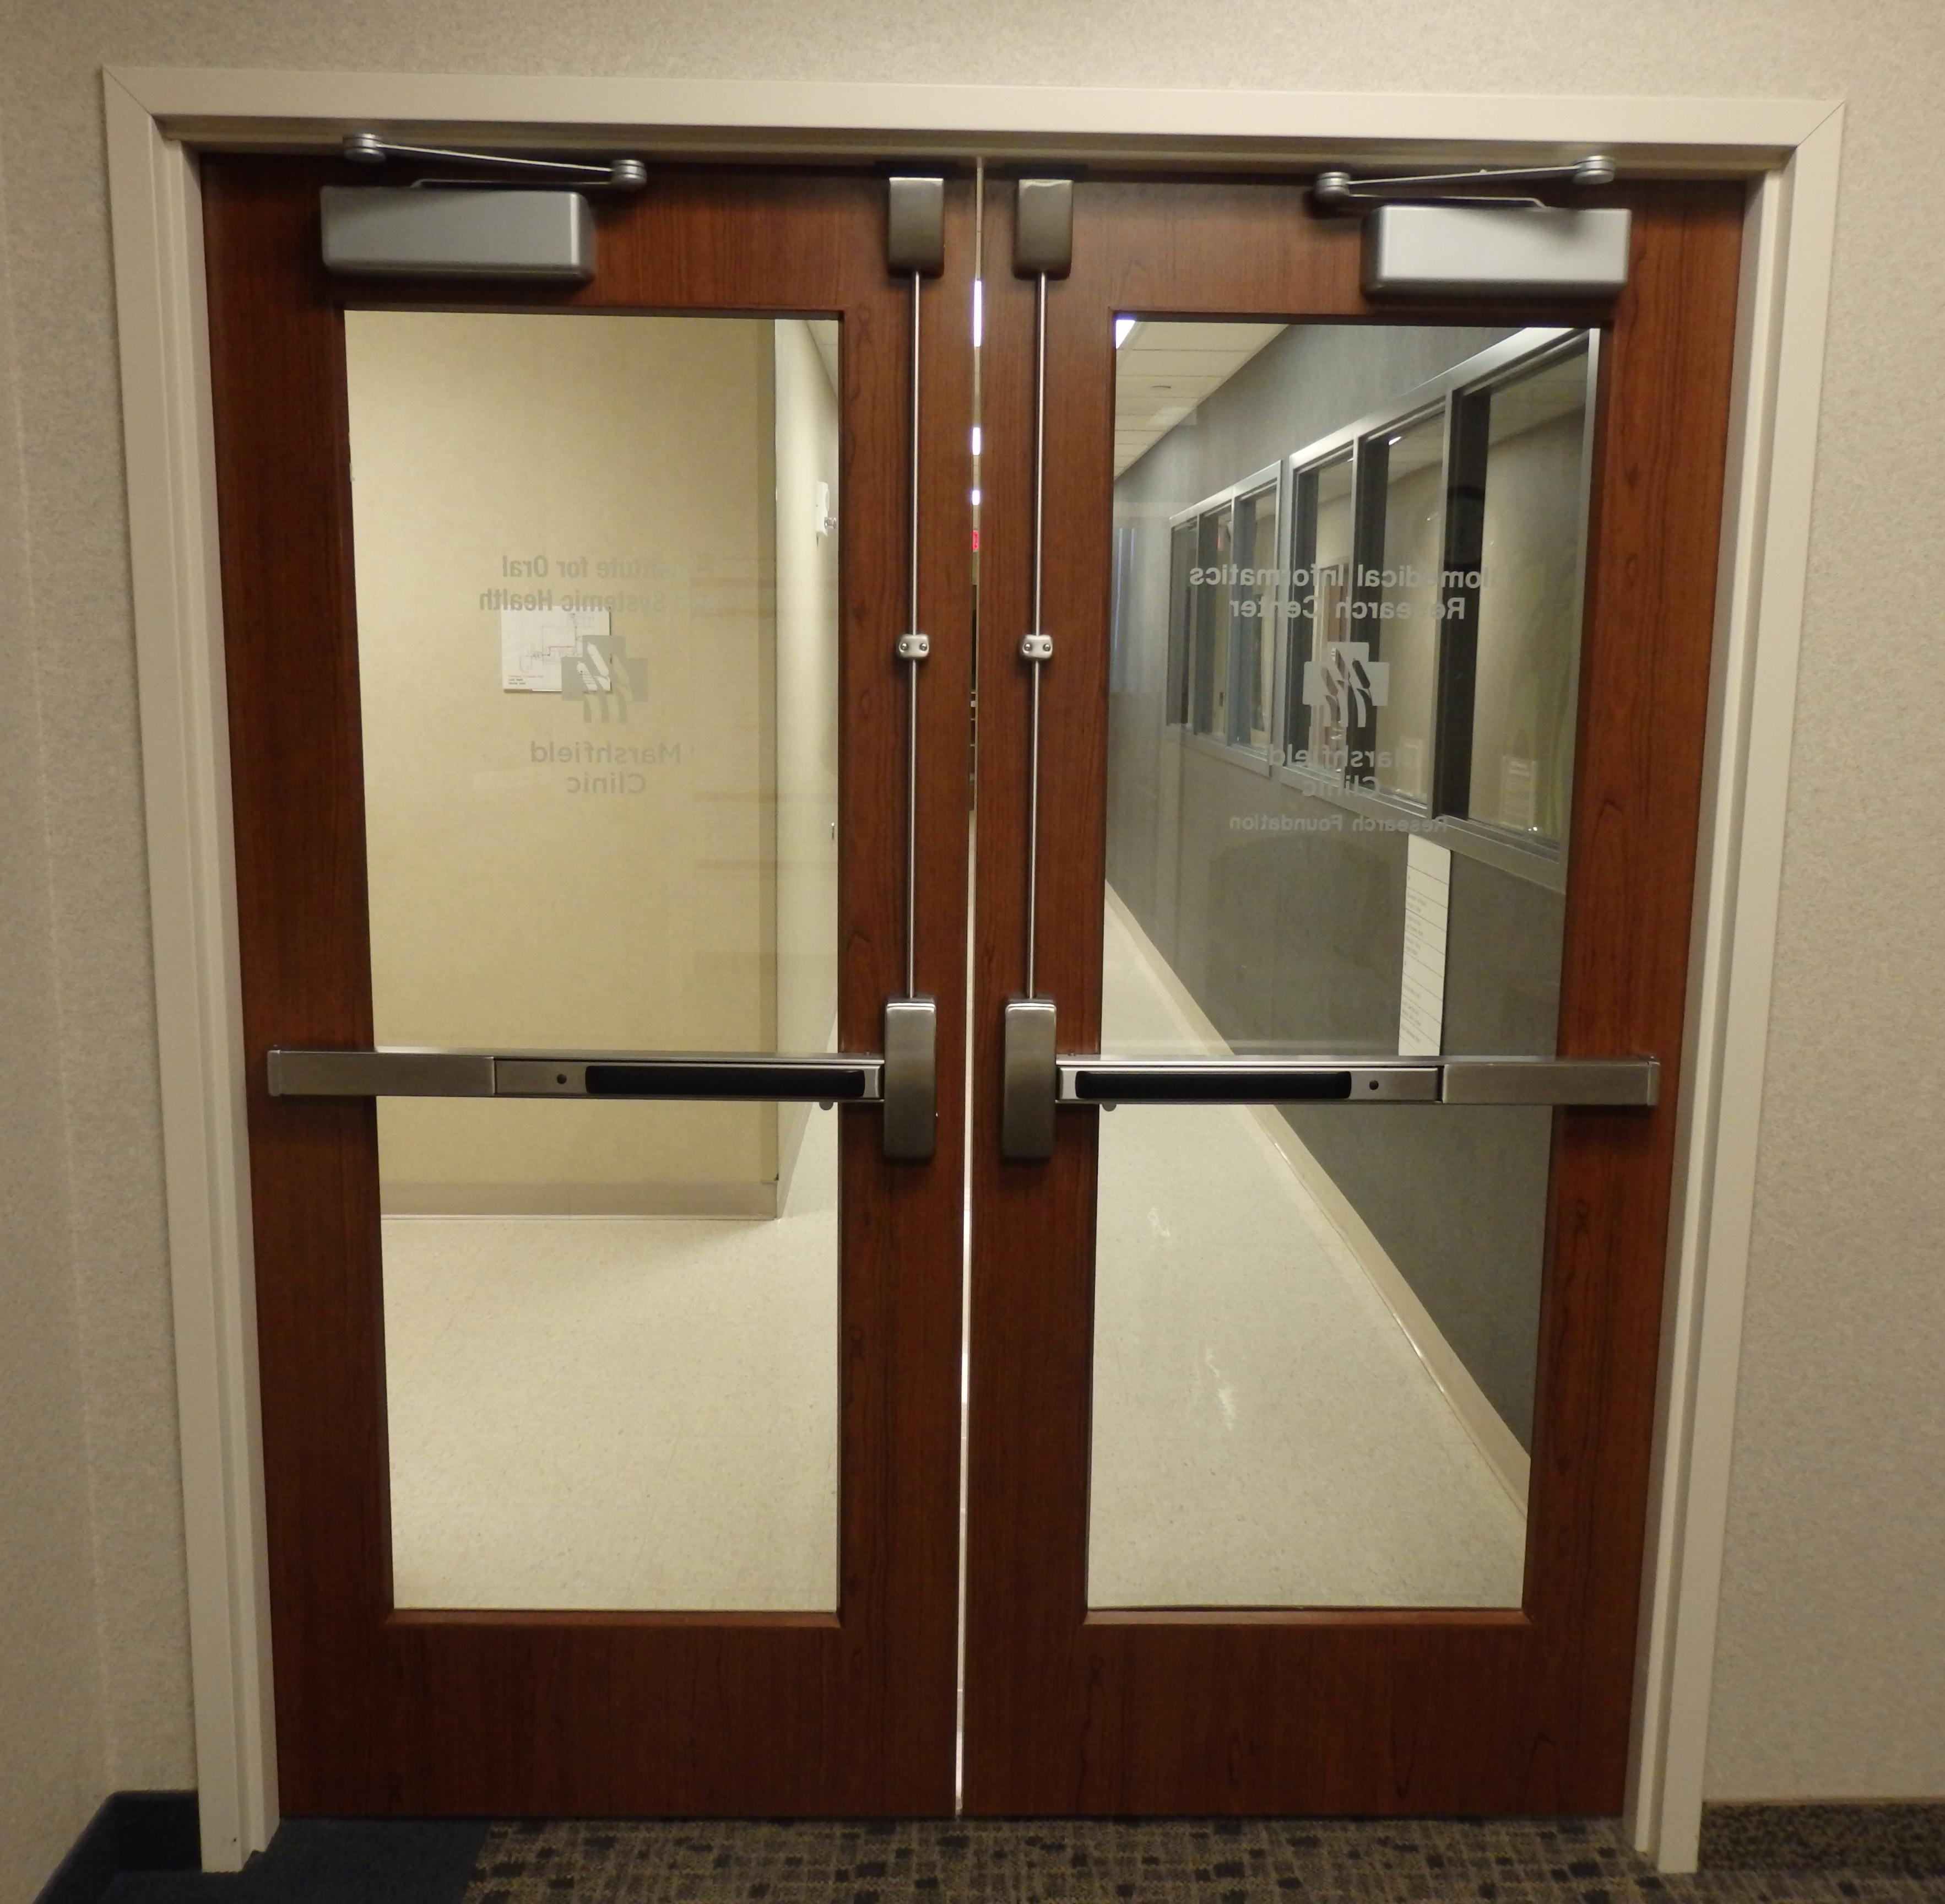door: (108, 77, 1706, 1857)
